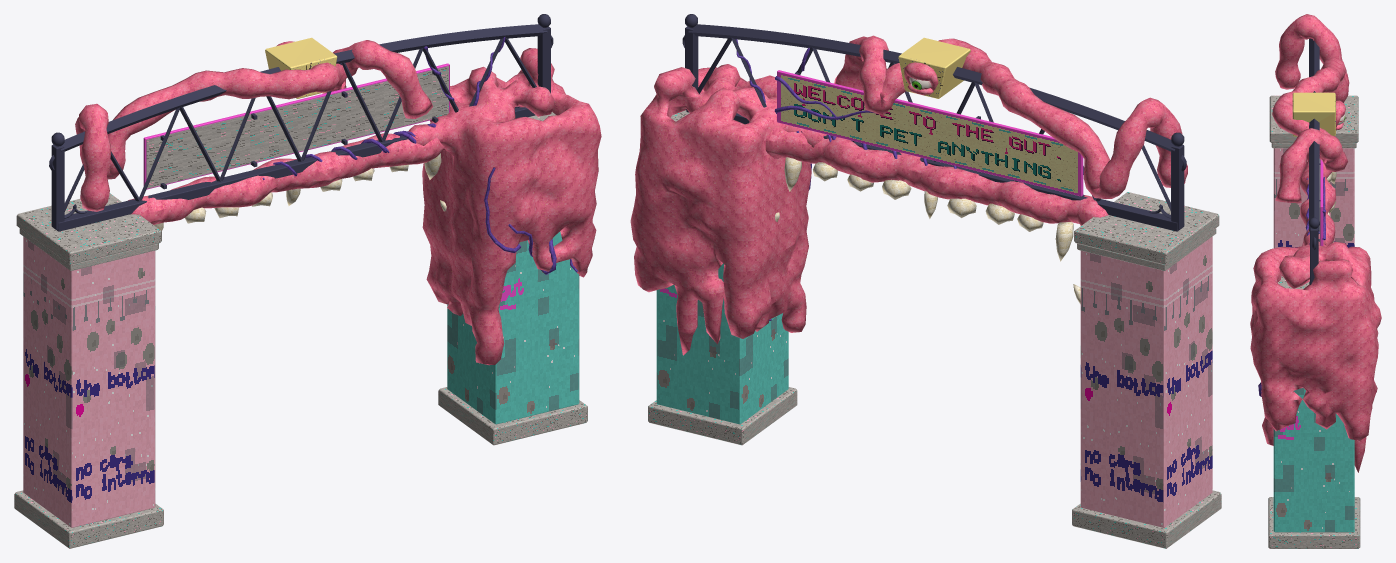
Rendered from s_gutgate.glb.
3 renders of one model, left to right at view 1: azimuth 30°, elevation 25°; view 2: azimuth 150°, elevation 25°; view 3: azimuth 270°, elevation 25°, orthographic. The views are drawn at different scales.
Visible parts, largest first — view 1: s_gutgate_mesh; view 2: s_gutgate_mesh; view 3: s_gutgate_mesh.
Part boxes in pixels (x1,y1,x2,y2): s_gutgate_mesh: (14,14,601,548); s_gutgate_mesh: (630,14,1221,548); s_gutgate_mesh: (1250,14,1381,548).
Size of what is drawn, in the model's own units: 19.06 by 14.02 by 4.87.
Materials: 6 (6 with a texture image).
